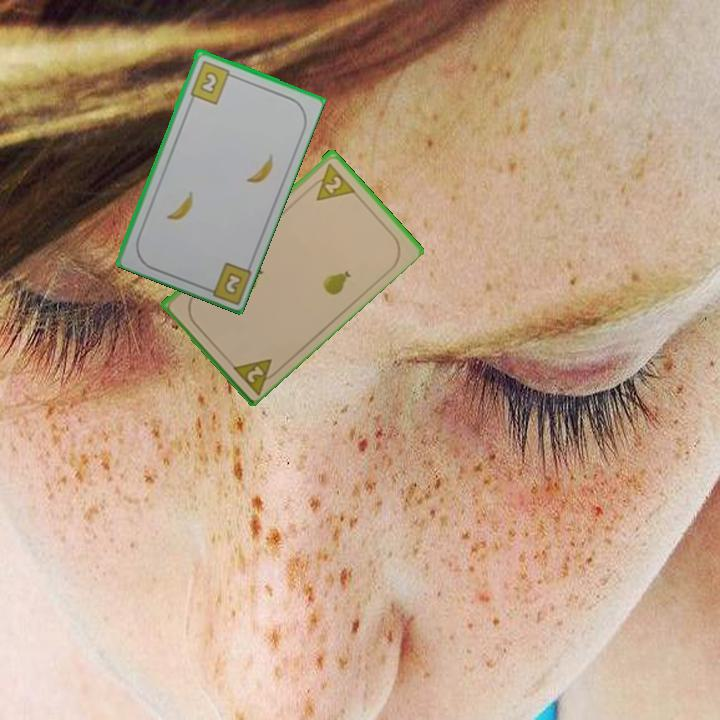2b: (186, 57, 238, 107), (220, 268, 245, 297)
2p: (305, 159, 357, 204), (228, 354, 283, 396)
